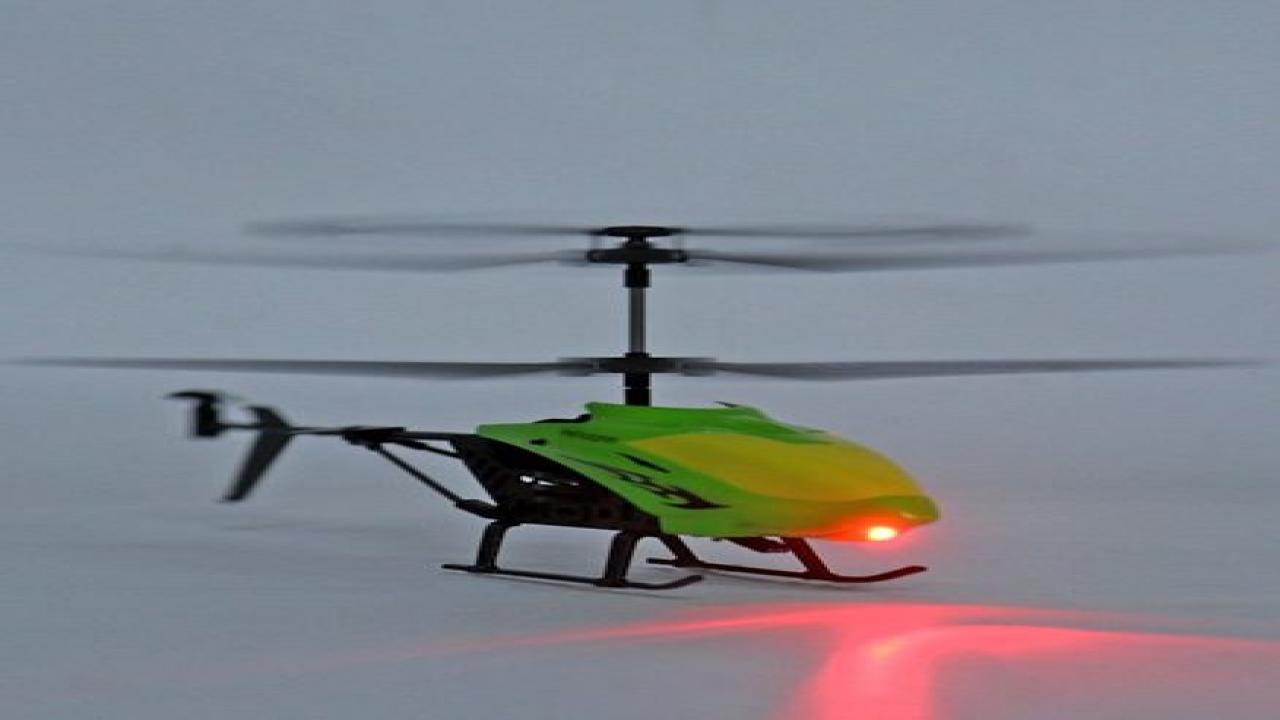Helicopter: (0, 209, 1280, 607)
